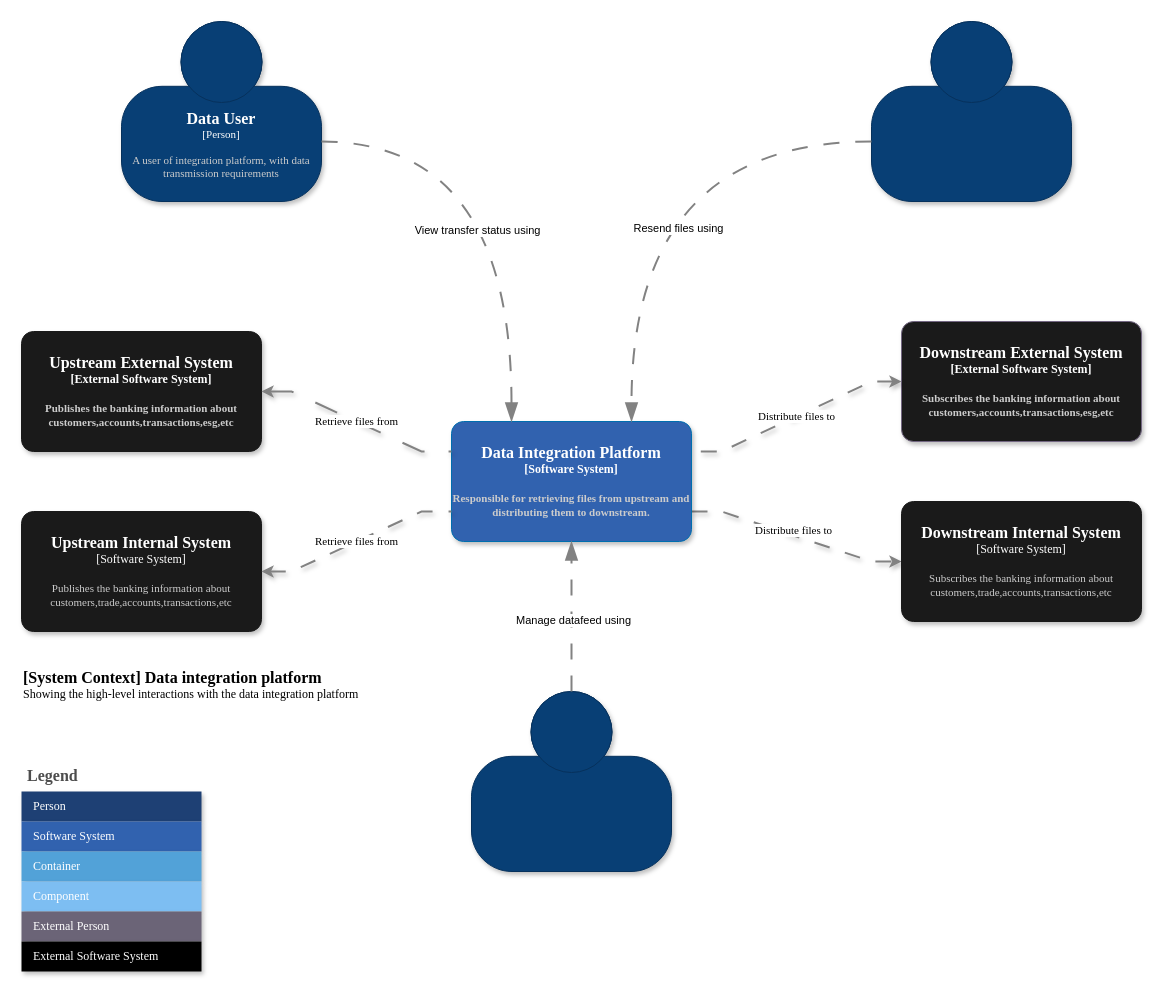
Some shapes in this 1165 by 996 pixel diagram are drawn without their labels. The shapes that lost their labels are listed below. From the top down, each one's centre as x and y in pixels, then its label:
At (972,112): "IT Support Staff [Person] An IT Support for integration platform".
At (572,782): "Admin [Person] System admin of integration platform".
